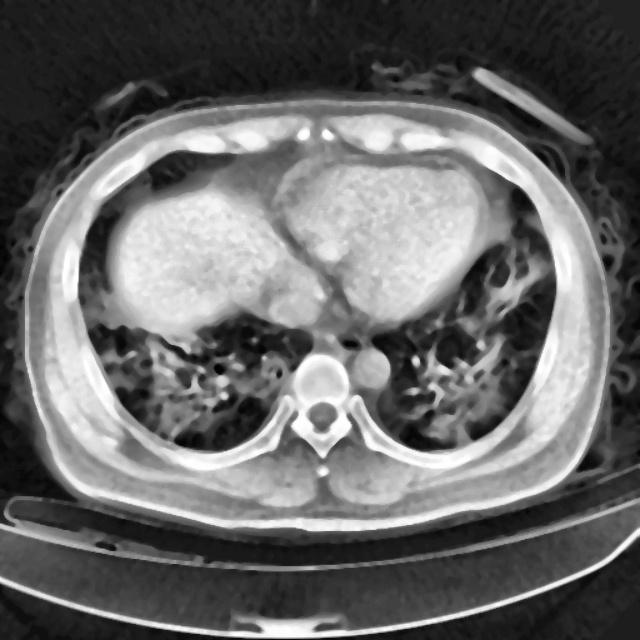covid: (17, 78, 612, 543)
